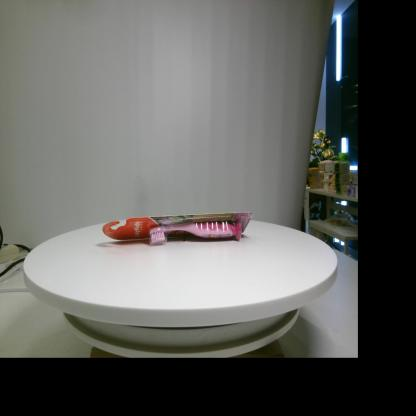Personal Hygiene: (102, 212, 253, 246)
